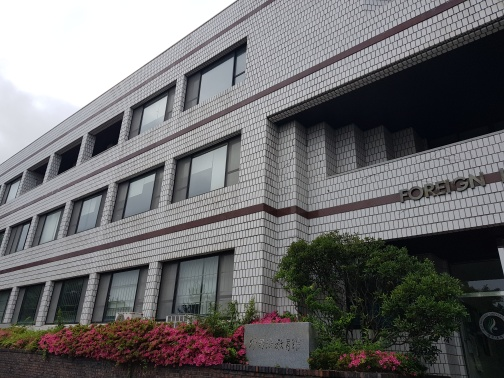Foreign Language Institute: (5, 10, 498, 368), (59, 121, 248, 239)
